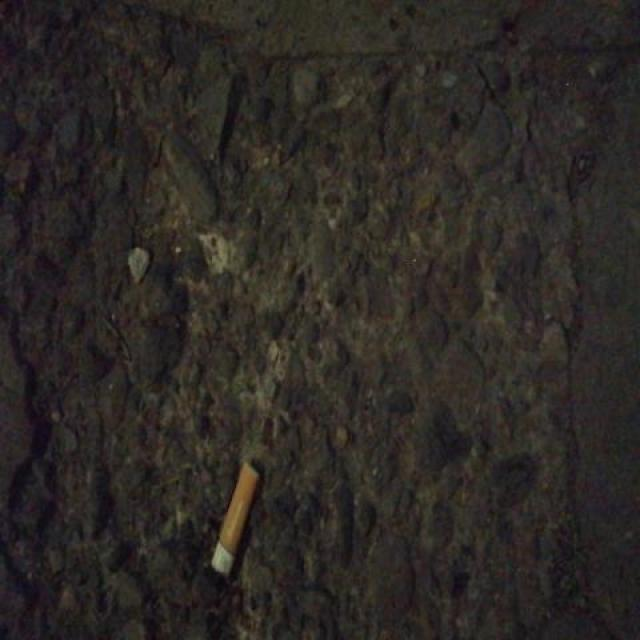non-organic waste: (207, 455, 261, 584)
